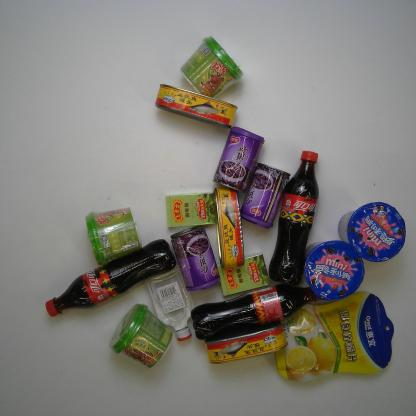Alcohol: (144, 267, 196, 344)
Candy: (214, 252, 272, 298), (164, 192, 218, 229)
Canned Food: (153, 82, 241, 131), (210, 123, 267, 194), (204, 324, 288, 366), (169, 224, 222, 290), (241, 162, 293, 229), (213, 184, 247, 272)
Dessert: (338, 198, 408, 265), (302, 240, 367, 302)
Dried Fruit: (276, 289, 395, 383)
Drink: (43, 237, 179, 319), (189, 284, 321, 342), (268, 149, 322, 286)
Instant Drink: (107, 302, 174, 370), (178, 33, 244, 97), (83, 206, 142, 266)
